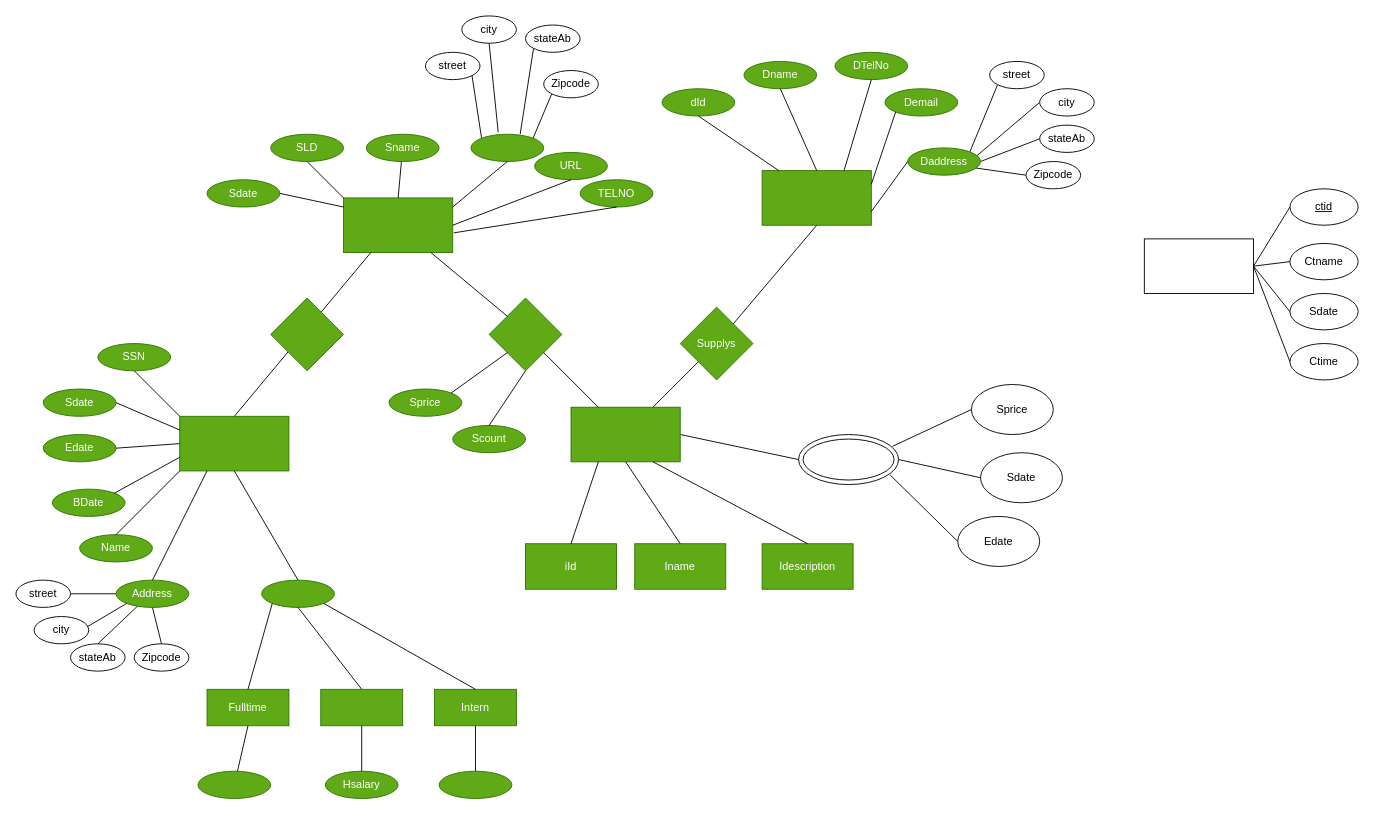
Some shapes in this 1374 by 814 pixel diagram are drawn without their labels. The shapes that lost their labels are listed below. From the top down, each one's centre as x and y in pixels, then its label:
At (507,147): "Saddress".
At (816,197): "Dealers".
At (398,225): "Shop".
At (1198,265): "CONTRACT".
At (307,334): "Works For".
At (525,334): "Sells".
At (234,443): "Employee".
At (625,434): "Items".
At (848,459): "OLDPRICE".
At (297,593): "Etype".
At (361,707): "Temporary".
At (234,784): "Asalary".
At (475,784): "Itype".
